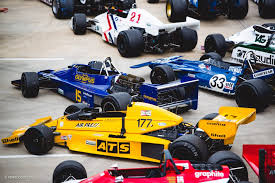FormulaOneCar: (2, 91, 260, 172), (7, 57, 204, 119)
